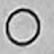no answer: (4, 8, 44, 47)
